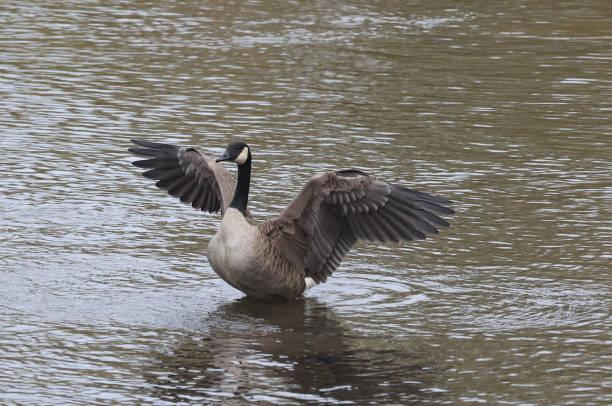Canadian-Goose: (131, 131, 458, 309)
